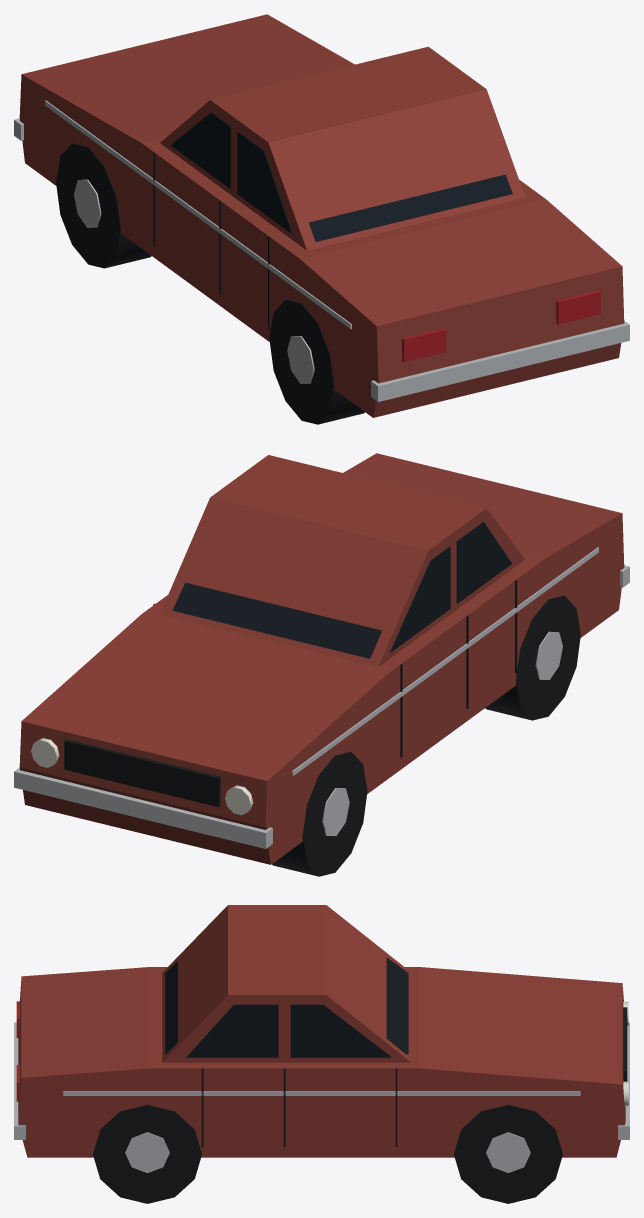
The model's file is parked-car.glb.
3 views of the same model, one above another, from view 1: azimuth 30°, elevation 25°; view 2: azimuth 150°, elevation 25°; view 3: azimuth 270°, elevation 25° (orthographic). The views are drawn at different scales.
Parts seen in each view (by area): view 1: 01_paint0, 00_#1e2022_noshadow_r320, 02_#1a2026_noshadow_r320, 03_#b8bcc0_noshadow_r110, 05_#a3262c_noshadow_r110; view 2: 01_paint0, 00_#1e2022_noshadow_r320, 02_#1a2026_noshadow_r320, 03_#b8bcc0_noshadow_r110, 04_#e0dcd0_noshadow; view 3: 01_paint0, 00_#1e2022_noshadow_r320, 02_#1a2026_noshadow_r320, 03_#b8bcc0_noshadow_r110.
Boxes of the visible parts, x1,y1,x2,y2 form: 01_paint0: (19, 14, 624, 417); 00_#1e2022_noshadow_r320: (56, 143, 364, 424); 02_#1a2026_noshadow_r320: (170, 112, 512, 241); 03_#b8bcc0_noshadow_r110: (14, 100, 629, 401); 05_#a3262c_noshadow_r110: (402, 290, 600, 362); 01_paint0: (19, 453, 624, 864); 00_#1e2022_noshadow_r320: (64, 580, 580, 876); 02_#1a2026_noshadow_r320: (172, 522, 511, 658); 03_#b8bcc0_noshadow_r110: (14, 547, 629, 848); 04_#e0dcd0_noshadow: (31, 738, 253, 815); 01_paint0: (18, 905, 625, 1157); 00_#1e2022_noshadow_r320: (93, 1007, 627, 1203); 02_#1a2026_noshadow_r320: (165, 957, 408, 1057); 03_#b8bcc0_noshadow_r110: (14, 1022, 629, 1172).
Size of the model in its own units: 1.65 by 1.5 by 4.13.
